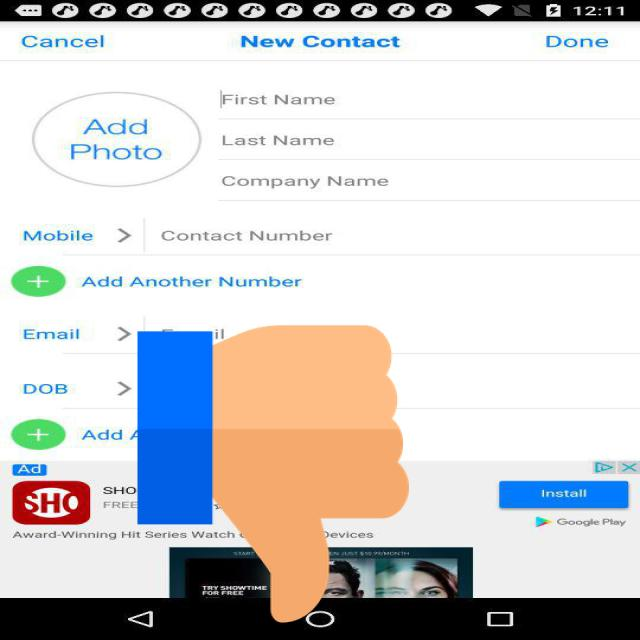obstruction: (137, 318, 409, 630)
